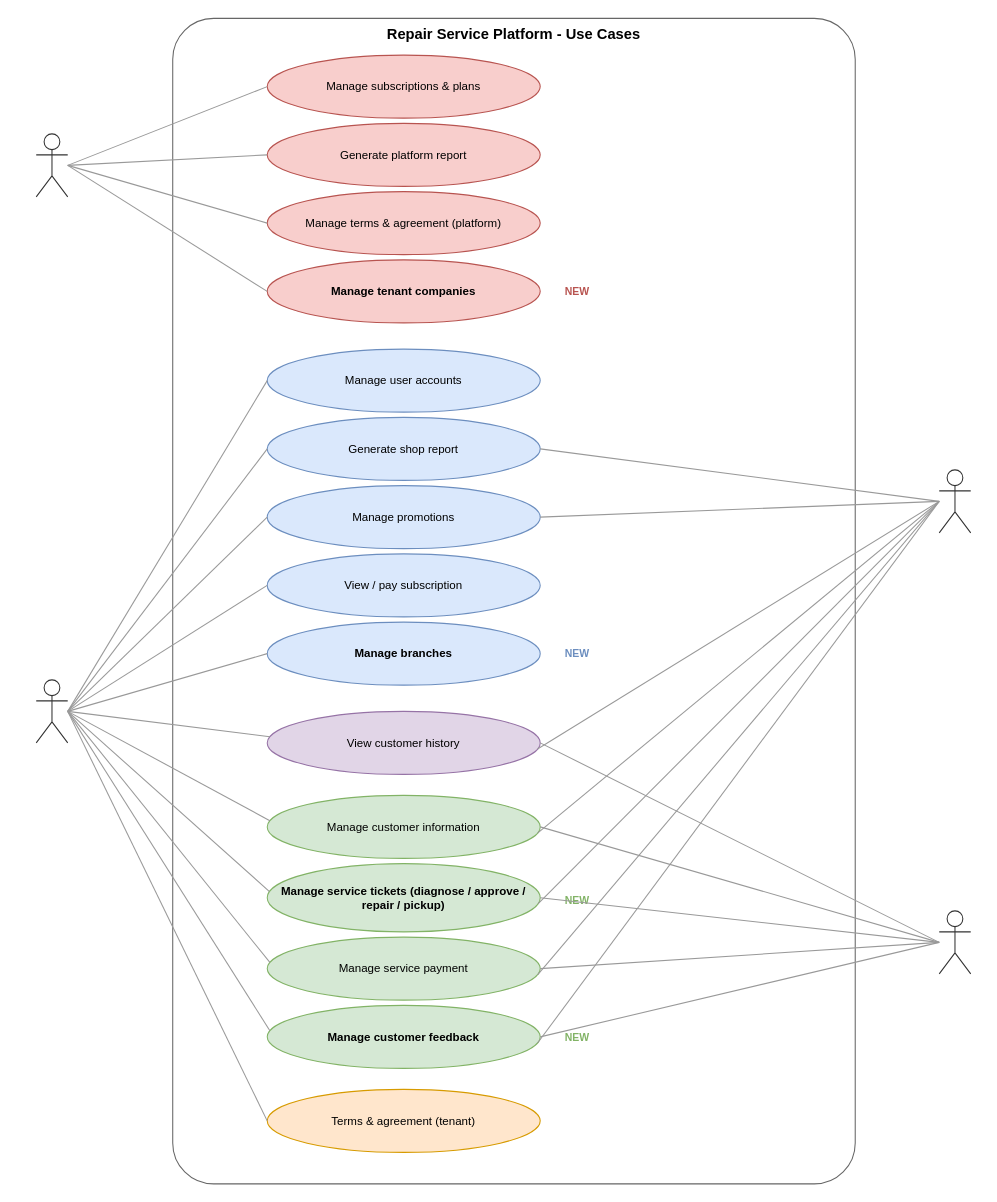
Image size: 997x1202. Some labels were removed from this diagram. Each missing label, with the centre of its shape:
"Admin" belongs at [51,711].
"Manager" belongs at [954,501].
"Staff" belongs at [954,942].
"Superadmin" belongs at [51,165].
